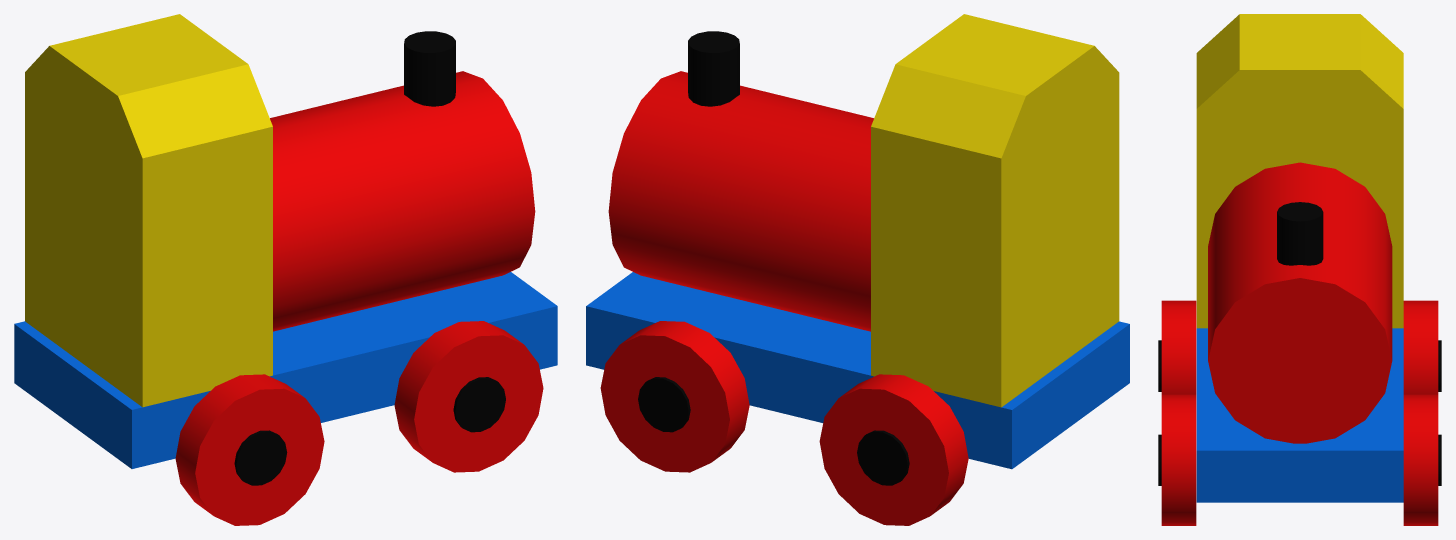
File: Scp737Headwagon.glb
3 views of the same model, side by side, from view 1: azimuth 30°, elevation 25°; view 2: azimuth 150°, elevation 25°; view 3: azimuth 270°, elevation 25° (orthographic). The views are drawn at different scales.
Visible parts, largest first — view 1: Cube, Cylinder, Cylinder.002, Cylinder.003, Cylinder.001; view 2: Cube, Cylinder, Cylinder.005, Cylinder.004, Cylinder.001; view 3: Cube, Cylinder, Cylinder.002, Cylinder.004, Cylinder.003, Cylinder.005, Cylinder.001.
Part boxes in pixels (x1=…): Cube: x1=14, y1=14, x2=557, y2=468; Cylinder: x1=270, y1=71, x2=535, y2=331; Cylinder.002: x1=394, y1=321, x2=543, y2=472; Cylinder.003: x1=175, y1=374, x2=324, y2=525; Cylinder.001: x1=404, y1=31, x2=455, y2=106; Cube: x1=586, y1=14, x2=1129, y2=469; Cylinder: x1=608, y1=71, x2=873, y2=331; Cylinder.005: x1=819, y1=374, x2=968, y2=525; Cylinder.004: x1=600, y1=321, x2=749, y2=472; Cylinder.001: x1=688, y1=31, x2=739, y2=106; Cube: x1=1196, y1=14, x2=1403, y2=502; Cylinder: x1=1208, y1=162, x2=1392, y2=443; Cylinder.002: x1=1158, y1=394, x2=1196, y2=525; Cylinder.004: x1=1403, y1=394, x2=1441, y2=525; Cylinder.003: x1=1158, y1=300, x2=1196, y2=394; Cylinder.005: x1=1403, y1=300, x2=1441, y2=394; Cylinder.001: x1=1277, y1=202, x2=1323, y2=265.
Bounding box in the file's own units: 0.3762 × 0.3548 × 0.2464.
